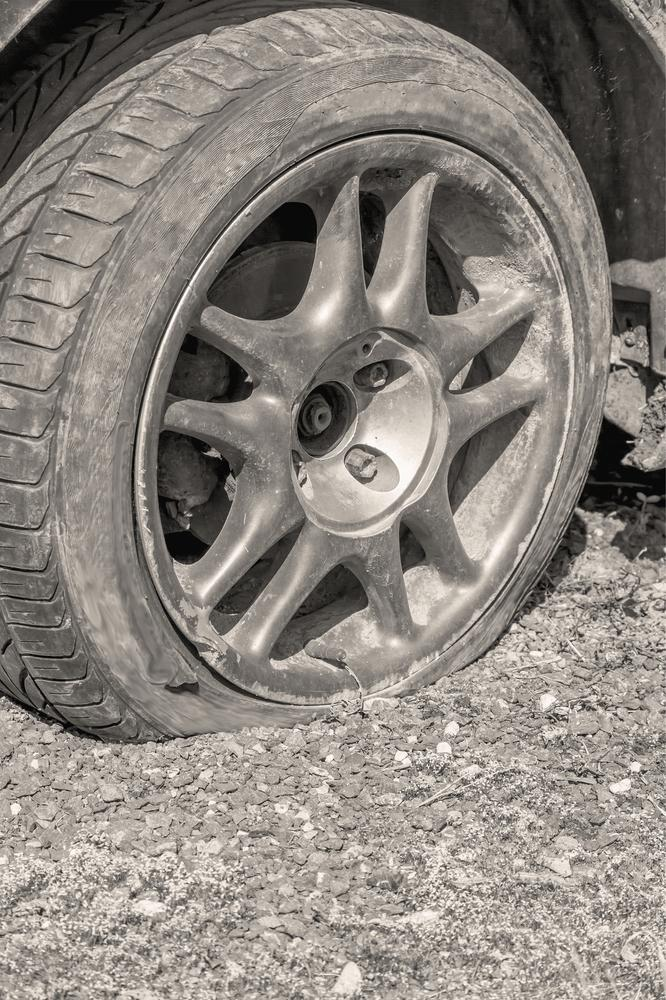tire flat: (0, 0, 613, 742)
